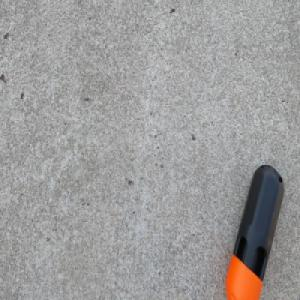PlasticPart: (225, 161, 285, 300)
